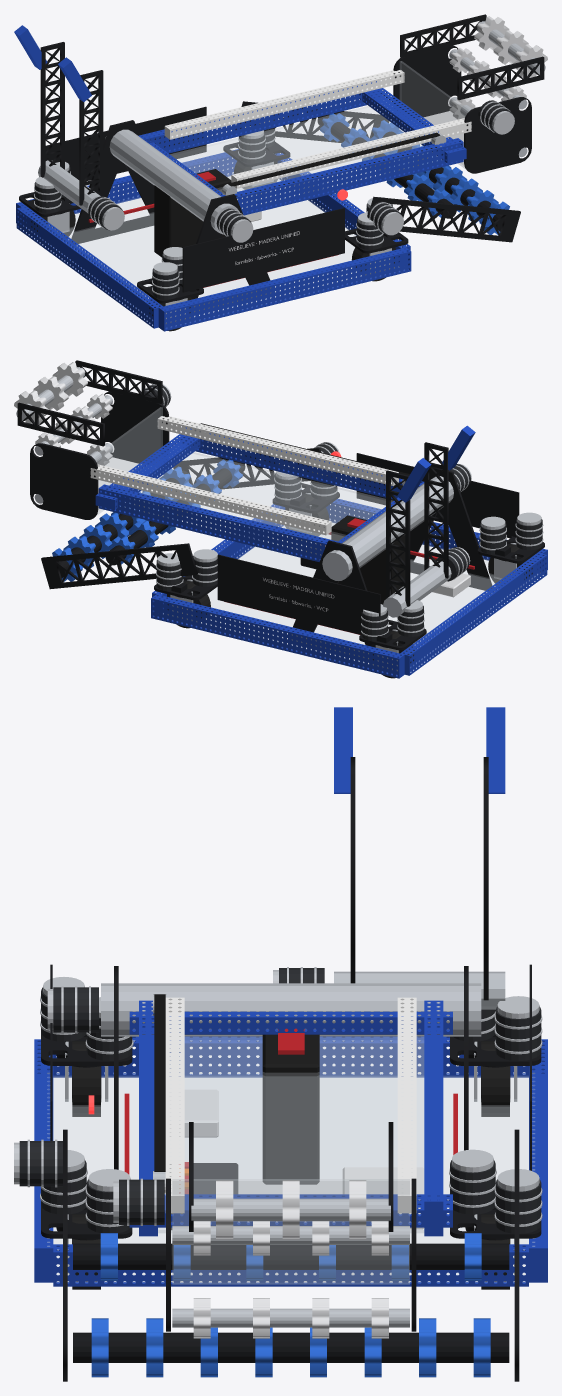
3 renders of one model, top to bottom at view 1: azimuth 30°, elevation 25°; view 2: azimuth 150°, elevation 25°; view 3: azimuth 270°, elevation 25°, orthographic. The views are drawn at different scales.
Parts seen in each view (by area): view 1: body.black, body.blue_tube, pivot.blue_tube, eff.black, pivot.polycarb, inner.black_tube, body.polycarb, climber.black, body.aluminum, body.kraken, body.kraken_cap, body.compliant_blue (+11 smaller); view 2: body.black, body.blue_tube, eff.black, pivot.blue_tube, pivot.polycarb, inner.black_tube, body.kraken, body.polycarb, climber.black, body.aluminum, body.compliant_blue, body.kraken_cap (+8 smaller); view 3: pivot.polycarb, body.black, body.polycarb, body.blue_tube, pivot.blue_tube, eff.polycarb, body.kraken, body.aluminum, body.compliant_blue, eff.aluminum, eff.white_wheel, inner.black_tube (+12 smaller).
Part boxes in pixels (x1=…): body.black: x1=19, y1=101, x2=520, y2=322; body.blue_tube: x1=16, y1=149, x2=411, y2=331; pivot.blue_tube: x1=138, y1=81, x2=466, y2=215; eff.black: x1=393, y1=14, x2=544, y2=173; pivot.polycarb: x1=168, y1=106, x2=437, y2=208; inner.black_tube: x1=164, y1=70, x2=471, y2=188; body.polycarb: x1=26, y1=172, x2=394, y2=326; climber.black: x1=40, y1=42, x2=103, y2=205; body.aluminum: x1=47, y1=129, x2=391, y2=318; body.kraken: x1=34, y1=119, x2=401, y2=299; body.kraken_cap: x1=34, y1=115, x2=403, y2=295; body.compliant_blue: x1=320, y1=113, x2=509, y2=235; body.black: x1=41, y1=447, x2=544, y2=669; body.blue_tube: x1=151, y1=499, x2=547, y2=678; eff.black: x1=17, y1=360, x2=169, y2=519; pivot.blue_tube: x1=95, y1=427, x2=424, y2=561; pivot.polycarb: x1=120, y1=452, x2=395, y2=554; inner.black_tube: x1=90, y1=416, x2=398, y2=535; body.kraken: x1=156, y1=442, x2=542, y2=640; body.polycarb: x1=163, y1=520, x2=540, y2=671; climber.black: x1=386, y1=442, x2=448, y2=606; body.aluminum: x1=170, y1=476, x2=516, y2=666; body.compliant_blue: x1=52, y1=459, x2=242, y2=581; body.kraken_cap: x1=156, y1=442, x2=543, y2=636; pivot.polycarb: x1=158, y1=1037, x2=423, y2=1232; body.black: x1=41, y1=964, x2=541, y2=1381; body.polycarb: x1=47, y1=1072, x2=534, y2=1282; body.blue_tube: x1=34, y1=1036, x2=547, y2=1286; pivot.blue_tube: x1=129, y1=1000, x2=452, y2=1236; eff.polycarb: x1=172, y1=1179, x2=409, y2=1284; body.kraken: x1=19, y1=968, x2=541, y2=1233; body.aluminum: x1=65, y1=983, x2=517, y2=1274; body.compliant_blue: x1=91, y1=1233, x2=490, y2=1377; eff.aluminum: x1=172, y1=1198, x2=409, y2=1327; eff.white_wheel: x1=193, y1=1180, x2=388, y2=1338; inner.black_tube: x1=165, y1=997, x2=416, y2=1213.
Bounding box in the file's own units: 1.2 × 0.5642 × 0.7131.
Materials: 18 (2 with a texture image).
